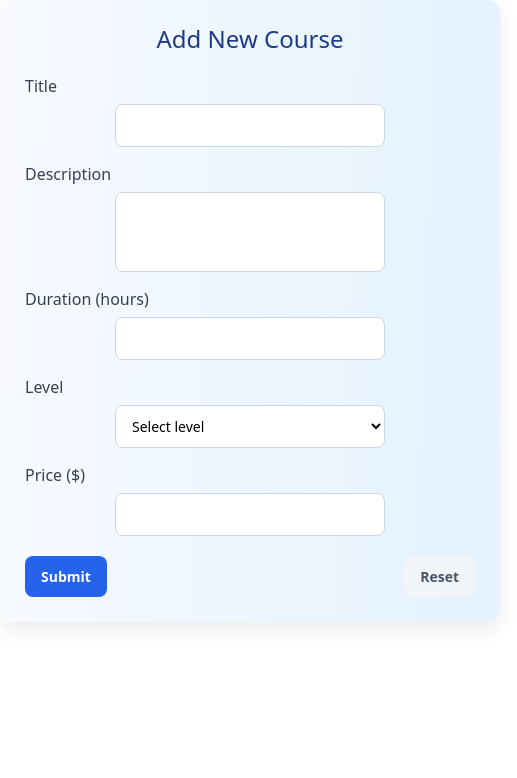
Test case: State_renders form fields and validates required fields
What coordinates should you click on to do the following:
click the button with test id "submit-btn"
I would click on:
 (66, 576)
Its box is [25,556,107,597].
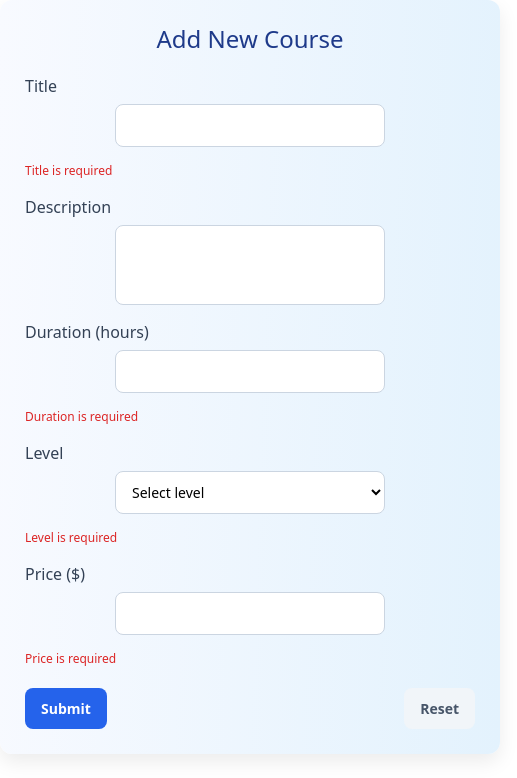
Now the text "Title is required" is shown, box [25,162,112,179]
Now the text "Duration is required" is shown, box [25,408,138,425]
Now the text "Level is required" is shown, box [25,529,117,546]
